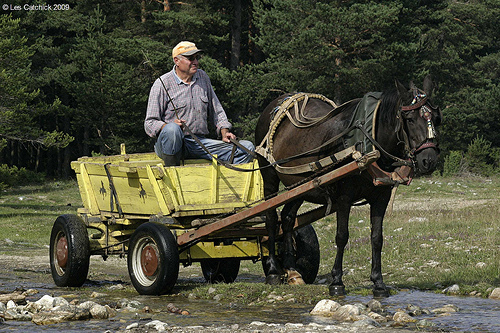horse: (254, 75, 442, 297)
